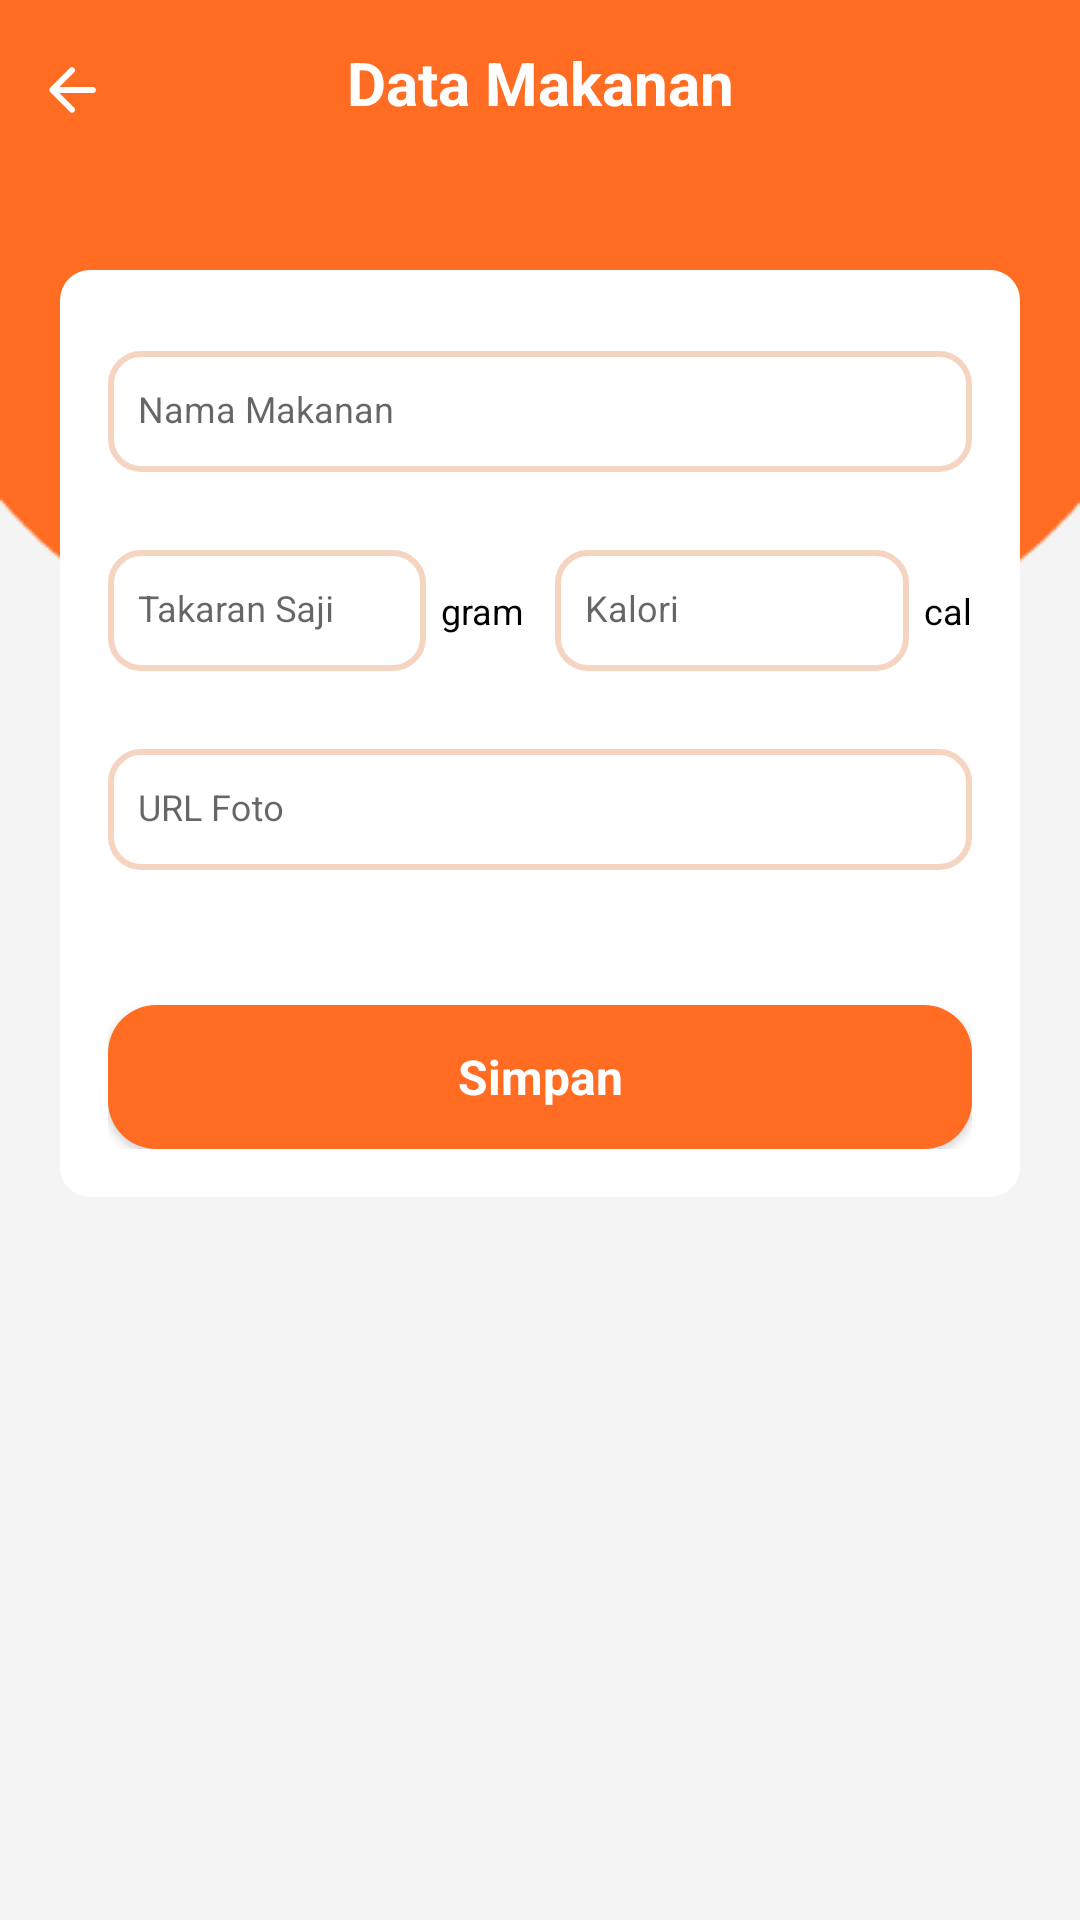

Icons on this 1080w x 1920h Android screen, each with the point to tap as (x=x, y=y):
back: (x=72, y=90)
